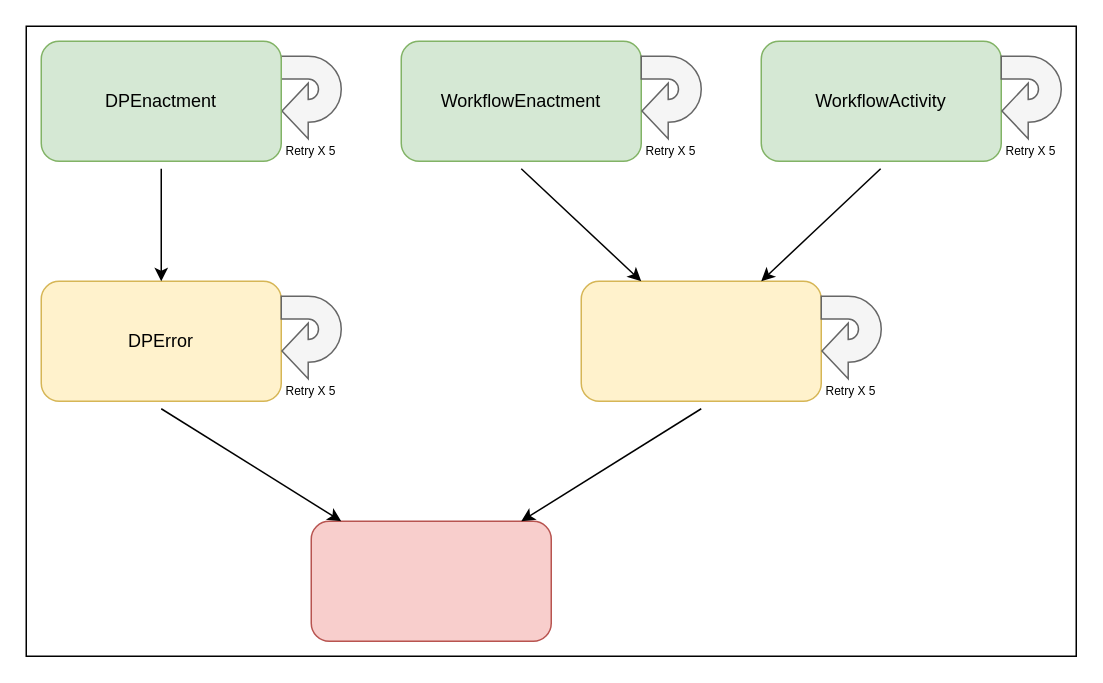
The diagram is 1103 pixels wide and 683 high, and some of its shapes have lost their labels. Here are the shapes that lost their labels. From the top down, the centre of each, then its label:
(700,340): WorkflowError
(430,580): CuramDeadMessageQueue
